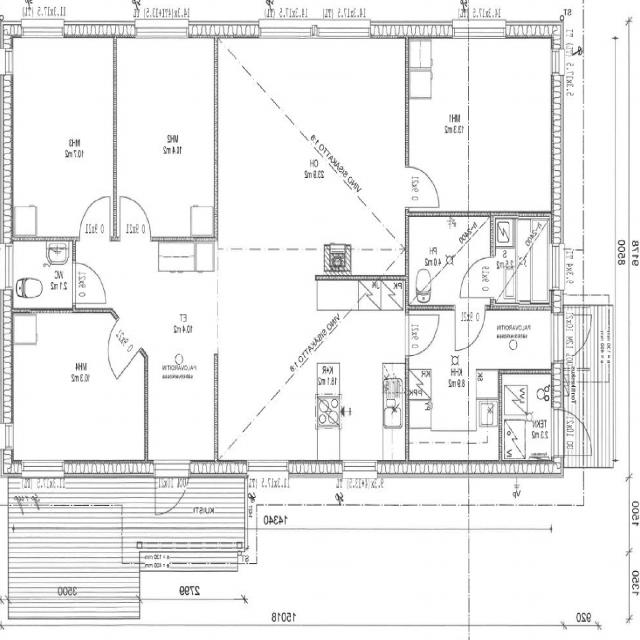door: (94, 318, 142, 380), (551, 315, 598, 361), (551, 409, 598, 455), (155, 460, 189, 523), (460, 257, 496, 298), (405, 314, 440, 356), (404, 167, 440, 207), (72, 263, 107, 303), (80, 196, 110, 242), (120, 196, 150, 242), (455, 304, 485, 350)
